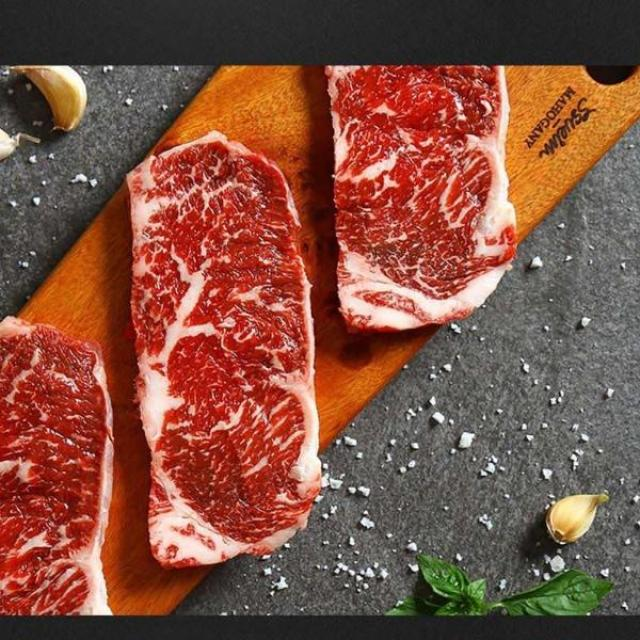beef: (185, 206, 306, 484), (379, 92, 492, 292)
